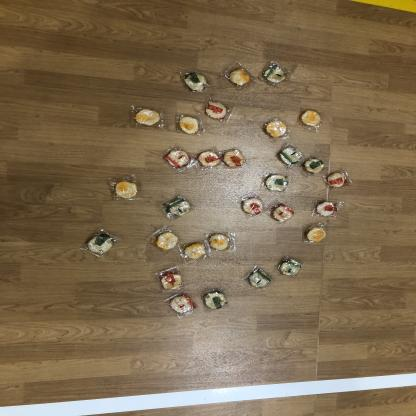green_setoshio: (82, 228, 118, 260), (260, 61, 291, 88), (179, 69, 211, 94), (243, 266, 273, 291), (163, 196, 194, 219), (277, 145, 305, 166), (278, 256, 304, 278), (263, 173, 290, 194), (204, 289, 229, 311), (301, 156, 324, 176)
red_setoshio: (154, 266, 184, 294), (163, 148, 196, 170), (168, 292, 198, 316), (203, 99, 231, 121), (269, 202, 296, 224), (240, 195, 265, 218), (313, 197, 340, 218), (196, 149, 224, 169), (325, 170, 352, 189), (222, 148, 247, 168)
yellow_setoshio: (110, 178, 142, 202), (226, 65, 254, 90), (152, 230, 181, 254), (133, 107, 165, 128), (176, 114, 204, 136), (264, 118, 290, 140), (297, 109, 324, 130), (207, 231, 234, 252), (303, 223, 327, 244), (182, 242, 207, 262)
